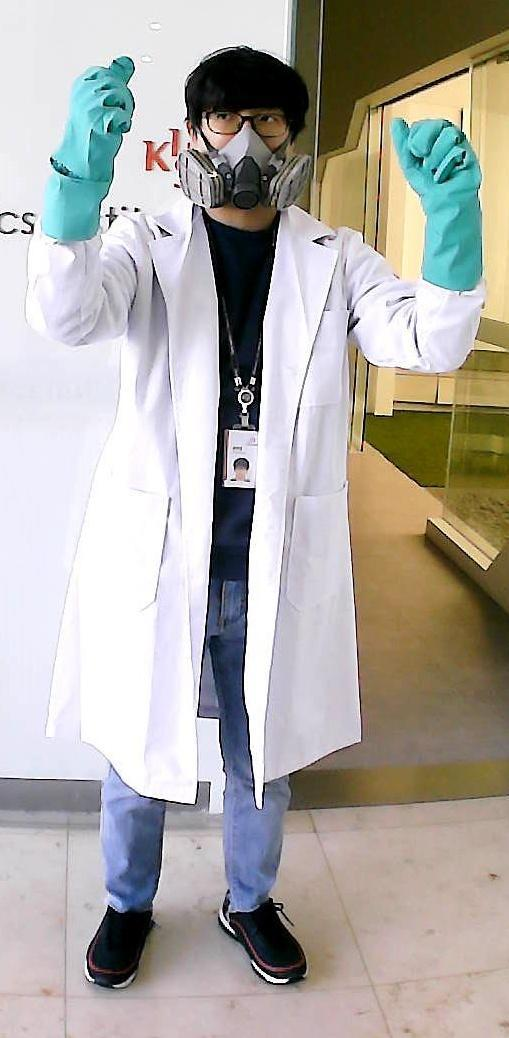lab_coat: (92, 234, 366, 769)
